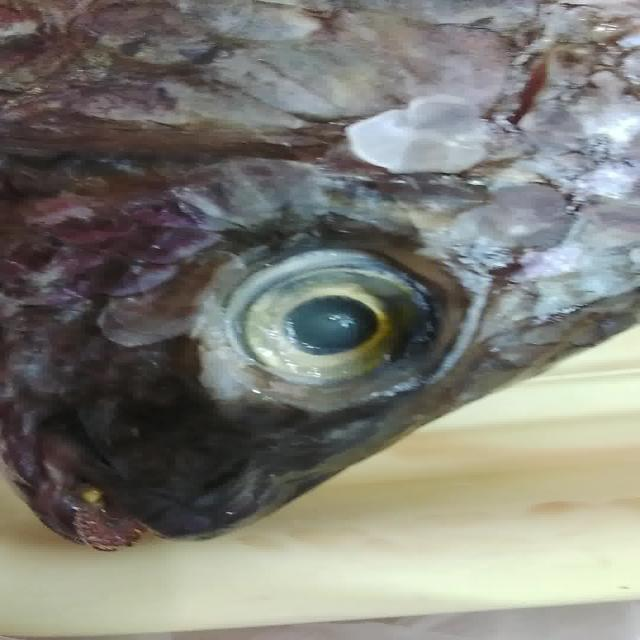Non-Fresh: (198, 212, 457, 421)
